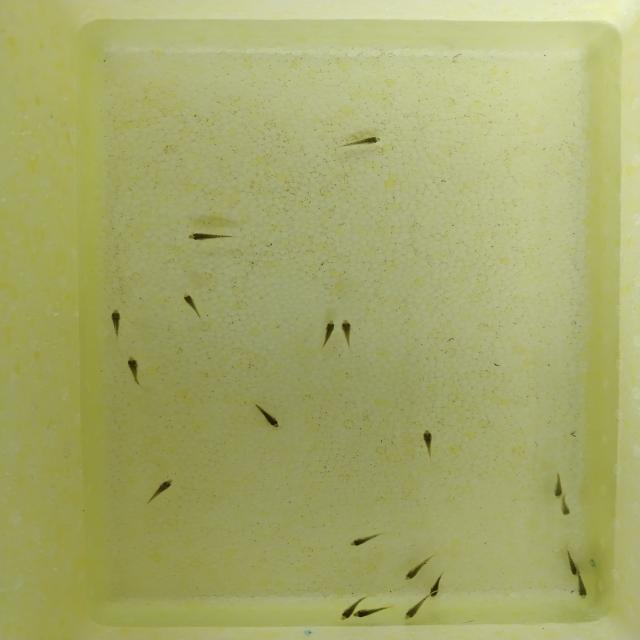fingerling: (246, 398, 288, 432), (141, 475, 179, 506), (398, 552, 436, 580), (332, 134, 388, 152), (178, 290, 208, 323), (122, 354, 148, 392), (185, 228, 240, 245), (106, 306, 127, 343), (347, 530, 387, 549), (418, 428, 440, 462), (319, 316, 337, 352), (354, 604, 394, 620), (340, 316, 356, 351), (563, 548, 582, 575), (402, 601, 424, 621), (550, 471, 566, 498), (338, 598, 354, 621), (427, 582, 445, 600), (576, 579, 589, 600), (558, 501, 574, 518)
